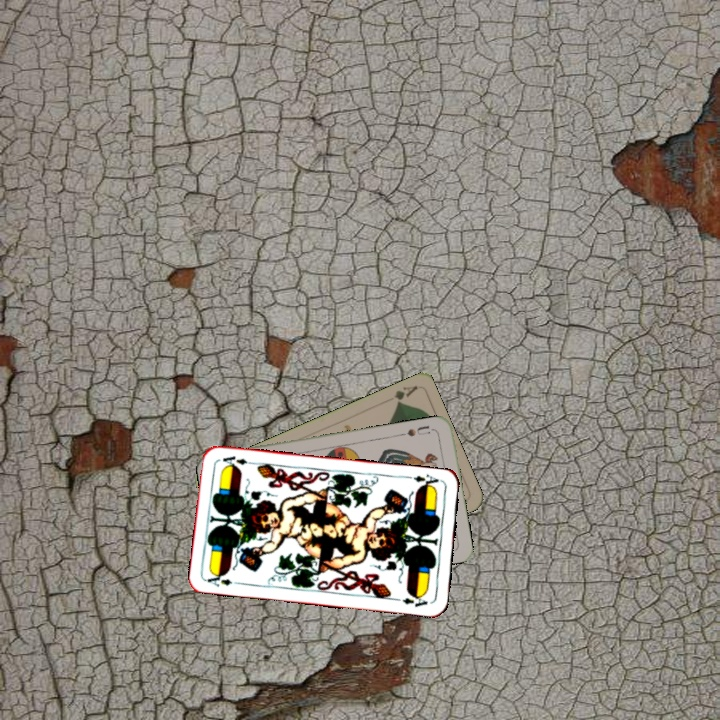EA: (203, 569, 244, 589), (404, 470, 441, 491)
GA: (390, 382, 419, 407)
SU: (403, 421, 432, 439)
